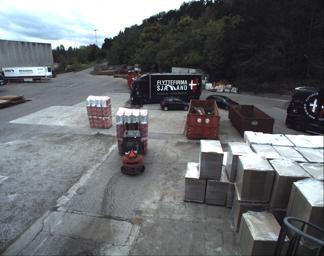rockwool_batts: (115, 106, 148, 151), (86, 93, 111, 126)
